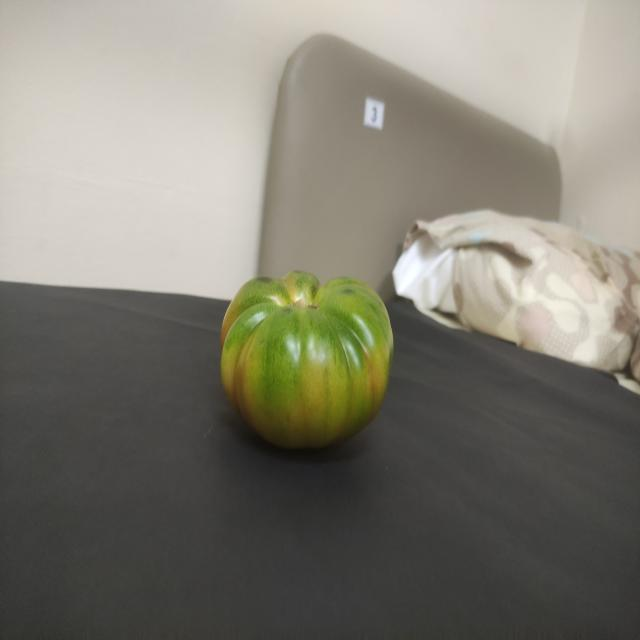yesil: (202, 249, 433, 464)
